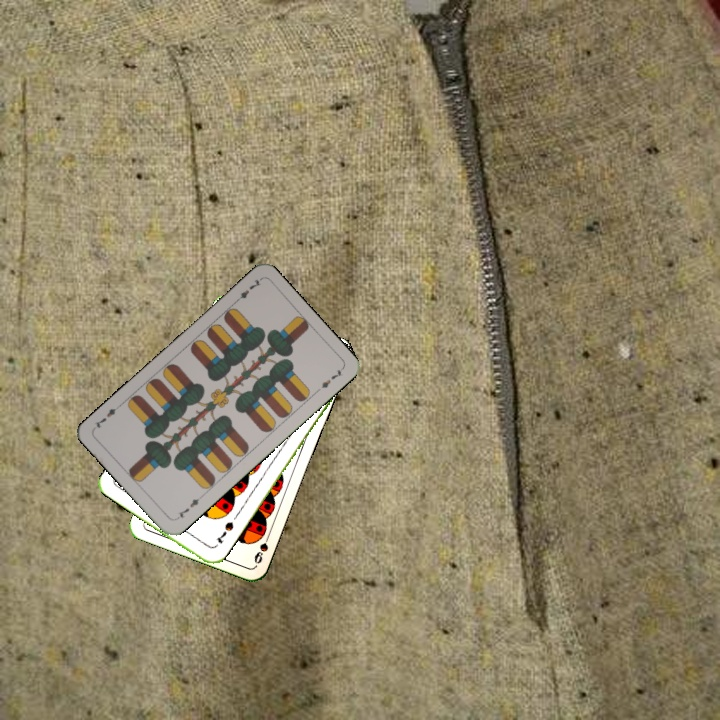E7: (171, 492, 205, 523), (230, 275, 264, 306)
S7: (212, 517, 236, 546)
S9: (250, 528, 273, 566)
